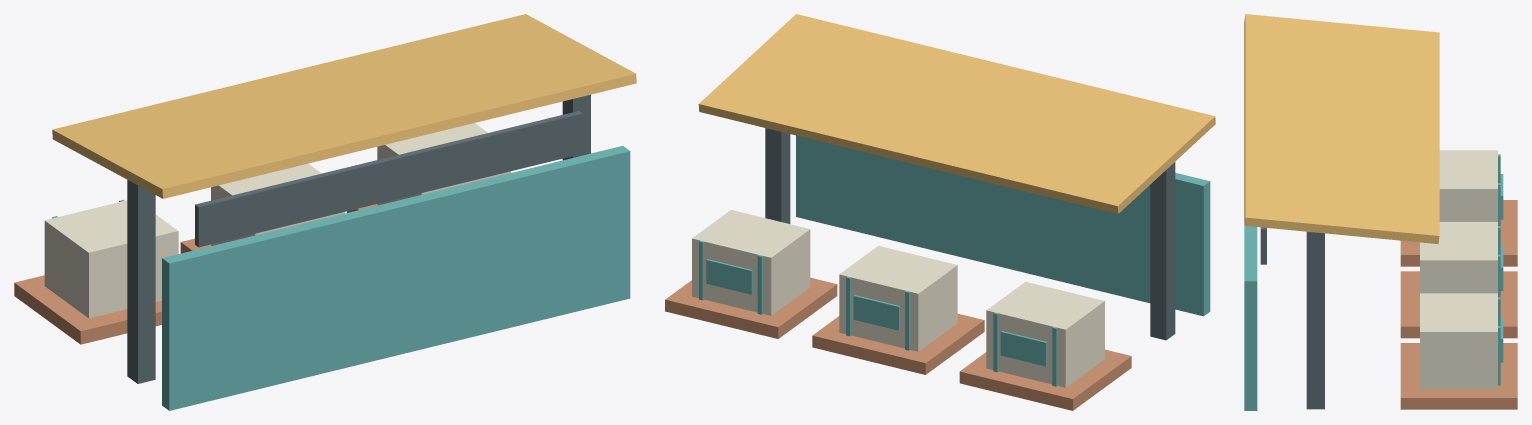
The model's file is MaterialWarehouse.glb.
The picture shows the model from 3 angles, left to right: view 1: azimuth 30°, elevation 25°; view 2: azimuth 150°, elevation 25°; view 3: azimuth 270°, elevation 25°; orthographic projection. The views are drawn at different scales.
Visible parts, largest first — view 1: MaterialWarehouse_DockPost; view 2: MaterialWarehouse_DockPost; view 3: MaterialWarehouse_DockPost.
Part boxes in pixels (bbox=[...]): MaterialWarehouse_DockPost: bbox=[14, 14, 636, 410]; MaterialWarehouse_DockPost: bbox=[665, 14, 1215, 410]; MaterialWarehouse_DockPost: bbox=[1244, 14, 1517, 410].
Bounding box in the file's own units: 37 × 16.63 × 21.
